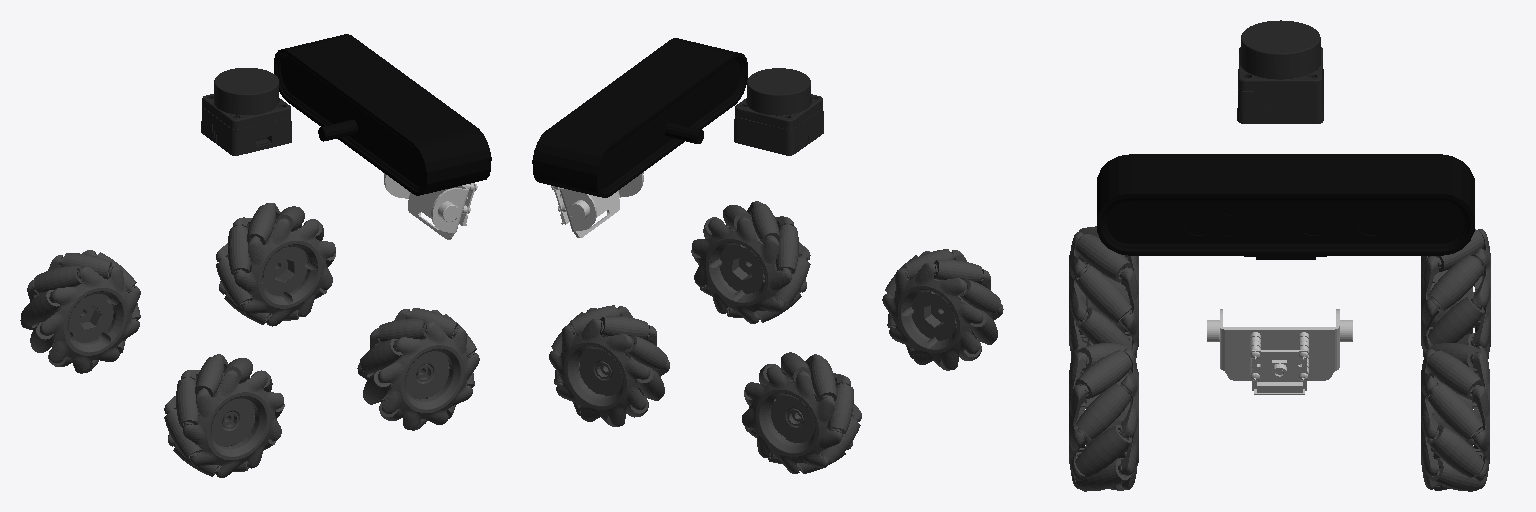
The robot description file, URDF, robot "yahboomcar":
<?xml version="1.0" encoding="utf-8"?>
<!-- This URDF was automatically created by SolidWorks to URDF Exporter! Originally created by [author] ([email redacted]) 
     Commit Version: 1.6.0-1-g15f4949  Build Version: 1.6.7594.29634
     For more information, please see http://wiki.ros.org/sw_urdf_exporter -->
<robot
  name="yahboomcar">
  <!-- <link
    name="base_footprint" /> -->
  <link
    name="base_link">
    <inertial>
      <origin
        xyz="0.00747327885898614 -0.000703137401396085 0.00844632750789007"
        rpy="0 0 0" />
      <mass
        value="0.472828691870721" />
      <inertia
        ixx="0.00023735992797554"
        ixy="1.96687462104139E-07"
        ixz="4.09403791310172E-05"
        iyy="0.000480258948998206"
        iyz="2.77544074265144E-07"
        izz="0.000585619745886075" />
    </inertial>
    <visual>
      <origin
        xyz="0 0 0"
        rpy="0 0 0" />
      <geometry>
        <mesh
          filename="package://yahboomcar_description/meshes/base_link.STL" />
      </geometry>
      <material
        name="">
        <color
          rgba="1 1 1 1" />
      </material>
    </visual>
    <collision>
      <origin
        xyz="0 0 0"
        rpy="0 0 0" />
      <geometry>
        <mesh
          filename="package://yahboomcar_description/meshes/base_link.STL" />
      </geometry>
    </collision>
  </link>
  <!-- <joint name="base_joint" type="fixed">
        <parent link="base_footprint"/>
        <child link="base_link"/>
        <origin xyz="0.0 0.0 0.05" rpy="0 0 0"/>
  </joint> -->
  <link
    name="left_front_wheel">
    <inertial>
      <origin
        xyz="9.51309601676664E-07 -0.00750819025110039 2.18379392255552E-06"
        rpy="0 0 0" />
      <mass
        value="0.0500162120573925" />
      <inertia
        ixx="1.40864768085935E-05"
        ixy="1.26664379700422E-09"
        ixz="7.32505207064377E-11"
        iyy="2.37248611853105E-05"
        iyz="-8.29718123821318E-10"
        izz="1.40860255663684E-05" />
    </inertial>
    <visual>
      <origin
        xyz="0 0 0"
        rpy="0 0 0" />
      <geometry>
        <mesh
          filename="package://yahboomcar_description/meshes/left_front_wheel.STL" />
      </geometry>
      <material
        name="">
        <color
          rgba="0.309803921568627 0.309803921568627 0.309803921568627 1" />
      </material>
    </visual>
    <collision>
      <origin
        xyz="0 0 0"
        rpy="0 0 0" />
      <geometry>
        <mesh
          filename="package://yahboomcar_description/meshes/left_front_wheel.STL" />
      </geometry>
    </collision>
  </link>
  <joint
    name="left_front_joint"
    type="continuous">
    <origin
      xyz="0.06 0.08361 -0.03295"
      rpy="0 0 0" />
    <parent
      link="base_link" />
    <child
      link="left_front_wheel" />
    <axis
      xyz="0 1 0" />
    <limit
      lower="0"
      upper="0"
      effort="0"
      velocity="0" />
  </joint>
  <link
    name="left_back_wheel">
    <inertial>
      <origin
        xyz="2.16943072321729E-06 -0.00750818642922751 -7.84233932168976E-07"
        rpy="0 0 0" />
      <mass
        value="0.0500046612532973" />
      <inertia
        ixx="1.40831669483232E-05"
        ixy="1.39729199262047E-09"
        ixz="1.64939876121511E-10"
        iyy="2.37212144800203E-05"
        iyz="1.20398545590494E-09"
        izz="1.40831639757783E-05" />
    </inertial>
    <visual>
      <origin
        xyz="0 0 0"
        rpy="0 0 0" />
      <geometry>
        <mesh
          filename="package://yahboomcar_description/meshes/left_back_wheel.STL" />
      </geometry>
      <material
        name="">
        <color
          rgba="0.309803921568627 0.309803921568627 0.309803921568627 1" />
      </material>
    </visual>
    <collision>
      <origin
        xyz="0 0 0"
        rpy="0 0 0" />
      <geometry>
        <mesh
          filename="package://yahboomcar_description/meshes/left_back_wheel.STL" />
      </geometry>
    </collision>
  </link>
  <joint
    name="left_back_joint"
    type="continuous">
    <origin
      xyz="-0.06 0.083967 -0.03295"
      rpy="0 0 0" />
    <parent
      link="base_link" />
    <child
      link="left_back_wheel" />
    <axis
      xyz="0 1 0" />
    <limit
      lower="0"
      upper="0"
      effort="0"
      velocity="0" />
  </joint>
  <link
    name="right_front_wheel">
    <inertial>
      <origin
        xyz="1.39763584144914E-06 0.00750819651285384 1.80940603984603E-06"
        rpy="0 0 0" />
      <mass
        value="0.0500047416034941" />
      <inertia
        ixx="1.40833480740863E-05"
        ixy="-1.76138672813374E-09"
        ixz="-3.22549915470603E-11"
        iyy="2.37212903005222E-05"
        iyz="3.14012077850559E-10"
        izz="1.40830865017032E-05" />
    </inertial>
    <visual>
      <origin
        xyz="0 0 0"
        rpy="0 0 0" />
      <geometry>
        <mesh
          filename="package://yahboomcar_description/meshes/right_front_wheel.STL" />
      </geometry>
      <material
        name="">
        <color
          rgba="0.309803921568627 0.309803921568627 0.309803921568627 1" />
      </material>
    </visual>
    <collision>
      <origin
        xyz="0 0 0"
        rpy="0 0 0" />
      <geometry>
        <mesh
          filename="package://yahboomcar_description/meshes/right_front_wheel.STL" />
      </geometry>
    </collision>
  </link>
  <joint
    name="right_front_joint"
    type="continuous">
    <origin
      xyz="0.06 -0.083747 -0.03295"
      rpy="0 0 0" />
    <parent
      link="base_link" />
    <child
      link="right_front_wheel" />
    <axis
      xyz="0 -1 0" />
    <limit
      lower="0"
      upper="0"
      effort="0"
      velocity="0" />
  </joint>
  <link
    name="right_back_wheel">
    <inertial>
      <origin
        xyz="-9.55851960818266E-07 0.00750819824863867 2.17080393899449E-06"
        rpy="0 0 0" />
      <mass
        value="0.0500150312671666" />
      <inertia
        ixx="1.40860871898844E-05"
        ixy="1.15449149953798E-09"
        ixz="6.61374857841594E-11"
        iyy="2.37245707946249E-05"
        iyz="6.4920640199731E-10"
        izz="1.40857967352272E-05" />
    </inertial>
    <visual>
      <origin
        xyz="0 0 0"
        rpy="0 0 0" />
      <geometry>
        <mesh
          filename="package://yahboomcar_description/meshes/right_back_wheel.STL" />
      </geometry>
      <material
        name="">
        <color
          rgba="0.309803921568627 0.309803921568627 0.309803921568627 1" />
      </material>
    </visual>
    <collision>
      <origin
        xyz="0 0 0"
        rpy="0 0 0" />
      <geometry>
        <mesh
          filename="package://yahboomcar_description/meshes/right_back_wheel.STL" />
      </geometry>
    </collision>
  </link>
  <joint
    name="right_back_joint"
    type="continuous">
    <origin
      xyz="-0.06 -0.08358 -0.03295"
      rpy="0 0 0" />
    <parent
      link="base_link" />
    <child
      link="right_back_wheel" />
    <axis
      xyz="0 -1 0" />
    <limit
      lower="0"
      upper="0"
      effort="0"
      velocity="0" />
  </joint>
  <link
    name="camera_link">
    <inertial>
      <origin
        xyz="0.0120062883869545 1.41307787423189E-12 -0.0042347859353245"
        rpy="0 0 0" />
      <mass
        value="0.00750684648912333" />
      <inertia
        ixx="1.51127145045957E-06"
        ixy="-2.71539569708406E-14"
        ixz="-2.95702098156892E-08"
        iyy="3.81441254432382E-07"
        iyz="-1.22107655491651E-13"
        izz="1.3927359120295E-06" />
    </inertial>
    <visual>
      <origin
        xyz="0 0 0"
        rpy="0 0 0" />
      <geometry>
        <mesh
          filename="package://yahboomcar_description/meshes/camera_link.STL" />
      </geometry>
      <material
        name="">
        <color
          rgba="0.752941176470588 0.752941176470588 0.752941176470588 1" />
      </material>
    </visual>
    <collision>
      <origin
        xyz="0 0 0"
        rpy="0 0 0" />
      <geometry>
        <mesh
          filename="package://yahboomcar_description/meshes/camera_link.STL" />
      </geometry>
    </collision>
  </link>
  <joint
    name="camera_joint"
    type="revolute">
    <origin
      xyz="0.10597 0 0.029874"
      rpy="0 0 0" />
    <parent
      link="base_link" />
    <child
      link="camera_link" />
    <axis
      xyz="0 1 0" />
    <limit
      lower="-1.4"
      upper="1"
      effort="0"
      velocity="0" />
  </joint>
  <link
    name="camera2_link">
    <inertial>
      <origin
        xyz="-0.00890326257047377 -0.0181075454483547 0.0183349632472757"
        rpy="0 0 0" />
      <mass
        value="0.173412271704595" />
      <inertia
        ixx="0.000376500545687347"
        ixy="2.2465054742241E-08"
        ixz="7.46582088614442E-08"
        iyy="3.27628693541372E-05"
        iyz="-5.06722292463496E-12"
        izz="0.000382974148366682" />
    </inertial>
    <visual>
      <origin
        xyz="0 0 0"
        rpy="0 0 0" />
      <geometry>
        <mesh
          filename="package://yahboomcar_description/meshes/camera2_link.STL" />
      </geometry>
      <material
        name="">
        <color
          rgba="0.0823529411764706 0.0823529411764706 0.0823529411764706 1" />
      </material>
    </visual>
    <collision>
      <origin
        xyz="0 0 0"
        rpy="0 0 0" />
      <geometry>
        <mesh
          filename="package://yahboomcar_description/meshes/camera2_link.STL" />
      </geometry>
    </collision>
  </link>
  <joint
    name="camera2_link"
    type="revolute">
    <origin
      xyz="0.092092 0.020691 0.061267"
      rpy="0 0 0" />
    <parent
      link="base_link" />
    <child
      link="camera2_link" />
    <axis
      xyz="0 -1 0" />
    <limit
      lower="-1"
      upper="1"
      effort="0"
      velocity="0" />
  </joint>
  <link
    name="lidar_link">
    <inertial>
      <origin
        xyz="2.58655077059347E-05 9.87213808632172E-05 -0.0175251741349158"
        rpy="0 0 0" />
      <mass
        value="0.0384696767042416" />
      <inertia
        ixx="7.04823646497064E-06"
        ixy="-1.60337109920922E-07"
        ixz="9.84412023285342E-09"
        iyy="7.10632359919618E-06"
        iyz="3.98837665675289E-08"
        izz="7.61196038394082E-06" />
    </inertial>
    <visual>
      <origin
        xyz="0 0 0"
        rpy="0 0 0" />
      <geometry>
        <mesh
          filename="package://yahboomcar_description/meshes/lidar_link.STL" />
      </geometry>
      <material
        name="">
        <color
          rgba="0.196078431372549 0.196078431372549 0.196078431372549 1" />
      </material>
    </visual>
    <collision>
      <origin
        xyz="0 0 0"
        rpy="0 0 0" />
      <geometry>
        <mesh
          filename="package://yahboomcar_description/meshes/lidar_link.STL" />
      </geometry>
    </collision>
  </link>
  <joint
    name="lidar_joint"
    type="fixed">
    <origin
      xyz="-0.0019517 0.00040736 0.12059"
      rpy="0 0 0" />
    <parent
      link="base_link" />
    <child
      link="lidar_link" />
    <axis
      xyz="0 0 0" />
  </joint>
  <link
    name="imu_link">
    <inertial>
      <origin
        xyz="-0.022012348814566 -0.014787288572475 0.00189847204885884"
        rpy="0 0 0" />
      <mass
        value="0.0359997241016587" />
      <inertia
        ixx="5.07306168807687E-06"
        ixy="-1.17177214930425E-07"
        ixz="-1.17901089615287E-07"
        iyy="1.27151707942821E-05"
        iyz="3.16261224112506E-07"
        izz="8.57151361697302E-06" />
    </inertial>
    <visual>
      <origin
        xyz="0 0 0"
        rpy="0 0 0" />
      <geometry>
        <mesh
          filename="package://yahboomcar_description/meshes/imu_link.STL" />
      </geometry>
      <material
        name="">
        <color
          rgba="1 1 1 1" />
      </material>
    </visual>
    <collision>
      <origin
        xyz="0 0 0"
        rpy="0 0 0" />
      <geometry>
        <mesh
          filename="package://yahboomcar_description/meshes/imu_link.STL" />
      </geometry>
    </collision>
  </link>
  <joint
    name="imu_joint"
    type="fixed">
    <origin
      xyz="-0.00080703 0.0418 0.040805"
      rpy="0 0 0" />
    <parent
      link="base_link" />
    <child
      link="imu_link" />
    <axis
      xyz="0 0 0" />
  </joint>
</robot>

--- Render facts (derived) ---
Views: 3 orthographic renders of the robot side by side, from view 1: azimuth 30°, elevation 25°; view 2: azimuth 150°, elevation 25°; view 3: azimuth 270°, elevation 25°.
Robot: yahboomcar — 9 links, 8 joints (2 revolute, 4 continuous, 2 fixed); root link base_link; default pose: all joints at 0.
Visible links, largest first — view 1: camera2_link, left_back_wheel, left_front_wheel, right_back_wheel, right_front_wheel, lidar_link, camera_link; view 2: camera2_link, right_front_wheel, left_back_wheel, left_front_wheel, right_back_wheel, lidar_link, camera_link; view 3: camera2_link, right_front_wheel, left_front_wheel, lidar_link, camera_link, right_back_wheel, left_back_wheel.
Link boxes in pixels (x1,y1,x2,y2): camera2_link: [274, 34, 491, 195]; left_back_wheel: [20, 250, 140, 373]; left_front_wheel: [216, 203, 335, 326]; right_back_wheel: [164, 354, 284, 477]; right_front_wheel: [357, 308, 479, 430]; lidar_link: [201, 68, 291, 155]; camera_link: [384, 173, 477, 239]; camera2_link: [532, 38, 747, 197]; right_front_wheel: [691, 201, 810, 323]; left_back_wheel: [742, 352, 861, 473]; left_front_wheel: [549, 305, 669, 426]; right_back_wheel: [882, 249, 1003, 370]; lidar_link: [734, 68, 823, 155]; camera_link: [551, 172, 643, 237]; camera2_link: [1097, 154, 1474, 259]; right_front_wheel: [1069, 343, 1138, 491]; left_front_wheel: [1421, 343, 1489, 491]; lidar_link: [1237, 20, 1323, 123]; camera_link: [1207, 309, 1352, 394]; right_back_wheel: [1069, 226, 1138, 358]; left_back_wheel: [1421, 229, 1490, 358].
Size in the robot's own frame: 0.2282 by 0.1837 by 0.1859 metres.
Meshes: 9 distinct files referenced, 7 mesh visuals loaded (7 binary STL); not drawn: 2 (reference not matched to a file when rendering).
